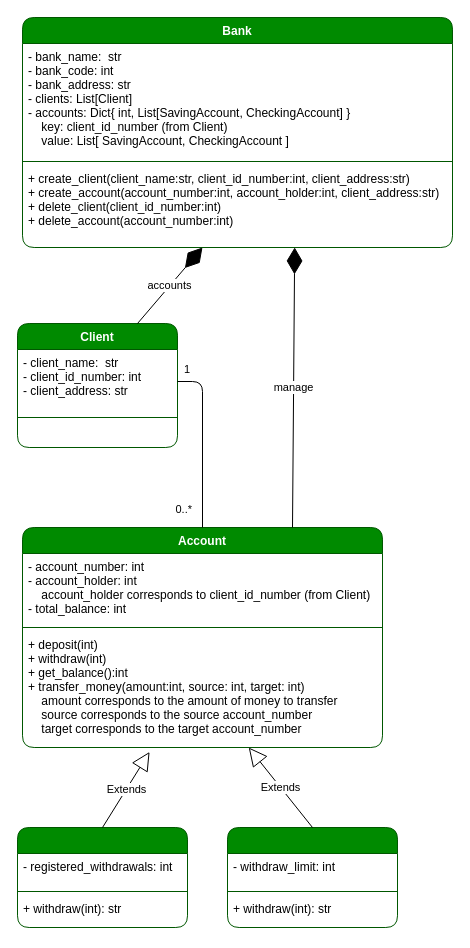
The diagram is 470 pixels wide and 948 high, and some of its shapes have lost their labels. Each missing label, with the box of its shape:
CheckingAccount: (226, 826, 398, 928)
SavingAccount: (16, 826, 188, 928)
